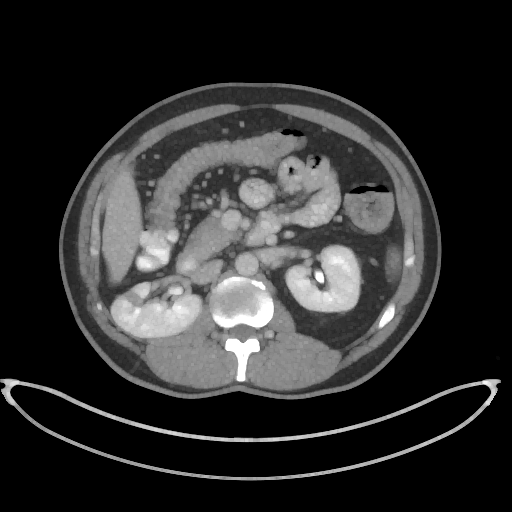Lesion: (119, 288, 144, 306)
